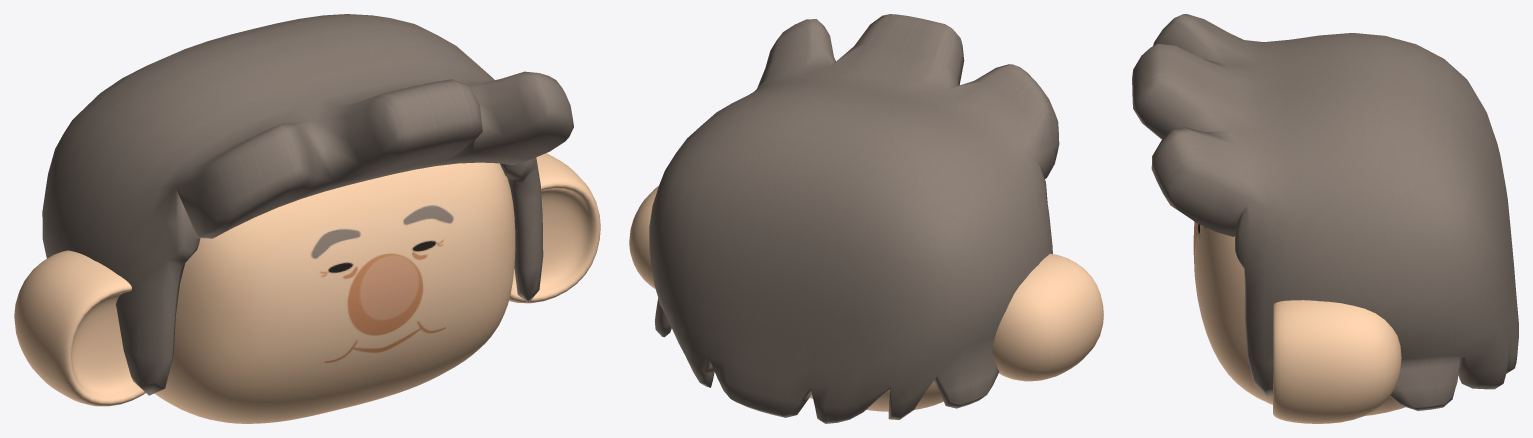
Rendered from uncle head.fbx.
3 views of the same model, side by side, from view 1: azimuth 30°, elevation 25°; view 2: azimuth 150°, elevation 25°; view 3: azimuth 270°, elevation 25° (orthographic). The views are drawn at different scales.
Parts seen in each view (by area): view 1: uncle_head; view 2: uncle_head; view 3: uncle_head.
Boxes of the visible parts, left/top/right/bottom form: uncle_head: left=14, top=14, right=600, bottom=423; uncle_head: left=629, top=14, right=1103, bottom=423; uncle_head: left=1132, top=14, right=1518, bottom=423.
Size of the model in its own units: 87.04 by 57.16 by 59.48.
3 materials, 3 textured.
